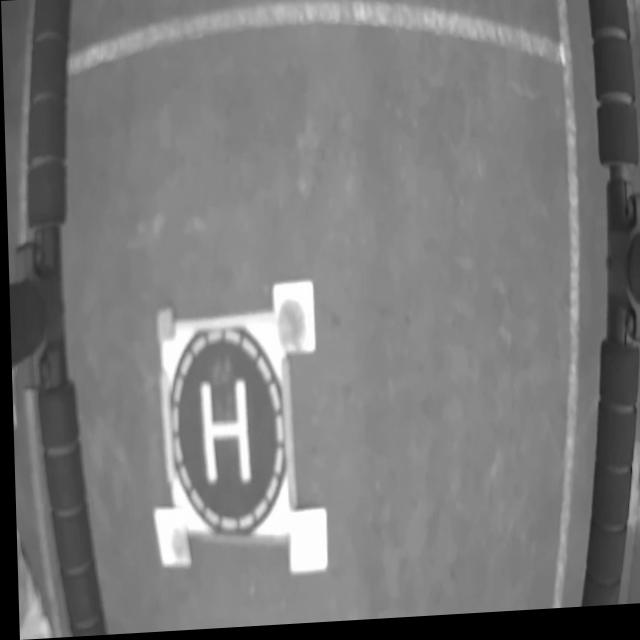Helipad: (198, 382, 247, 485)
